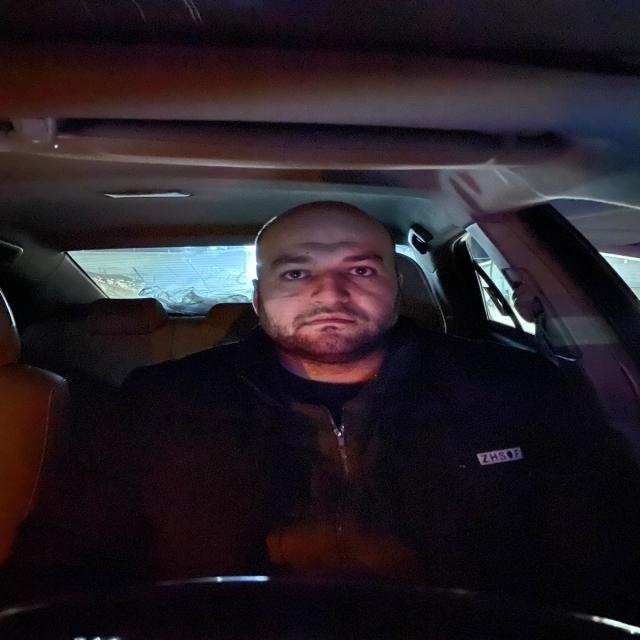person: (249, 194, 406, 362)
